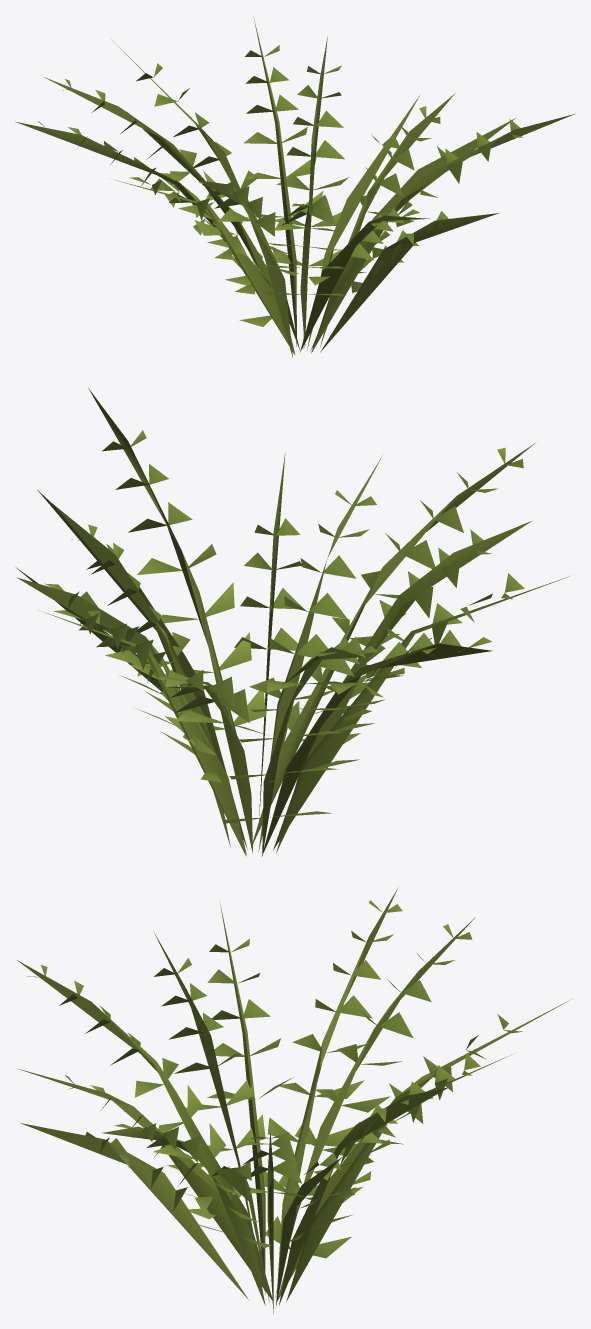
Rendered from fern_lush.glb.
3 renders of one model, top to bottom at view 1: azimuth 30°, elevation 25°; view 2: azimuth 150°, elevation 25°; view 3: azimuth 270°, elevation 25°, orthographic. The views are drawn at different scales.
Visible parts, largest first — view 1: Plant; view 2: Plant; view 3: Plant.
Part boxes in pixels (bbox=[...]): Plant: bbox=[15, 16, 575, 357]; Plant: bbox=[16, 388, 569, 856]; Plant: bbox=[17, 887, 573, 1313].
Bounding box in the file's own units: 0.9182 × 0.5171 × 0.8979.
